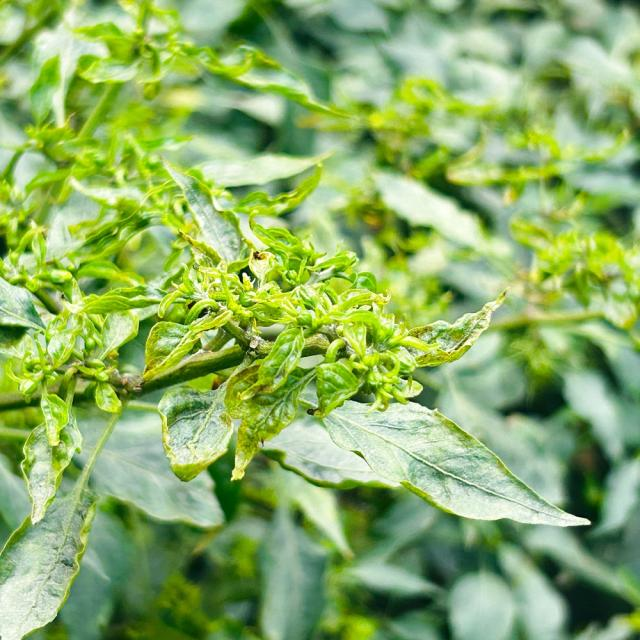Chilli_Leaf_Curl: (0, 0, 594, 637), (142, 154, 510, 484), (310, 395, 592, 529), (158, 155, 249, 276), (156, 382, 234, 482), (19, 409, 83, 525)
